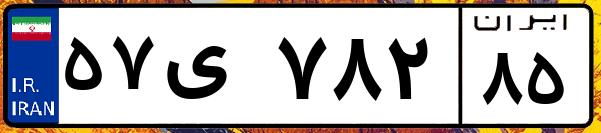2: (385, 28, 445, 110)
5: (57, 26, 110, 100), (525, 38, 570, 115)
7: (270, 28, 330, 110), (110, 28, 158, 98)
8: (330, 28, 385, 110), (475, 38, 525, 113)
ی: (158, 20, 270, 120)
